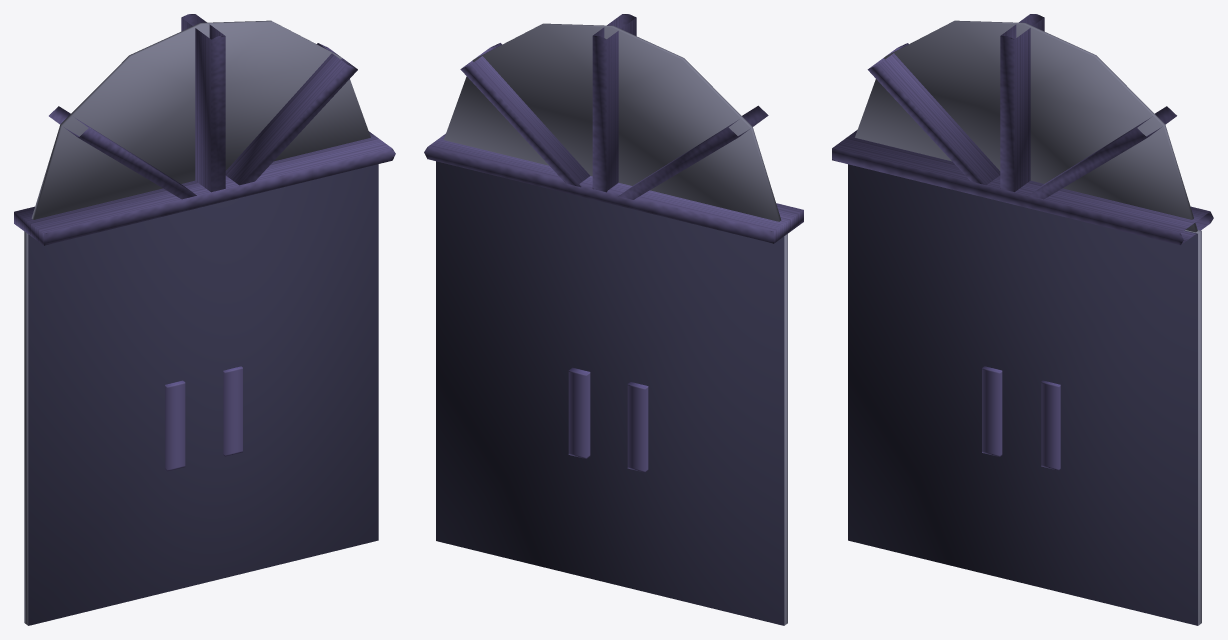
The model's file is door.fbx.
3 views of the same model, side by side, from view 1: azimuth 30°, elevation 25°; view 2: azimuth 150°, elevation 25°; view 3: azimuth 330°, elevation 25° (orthographic).
Visible parts, largest first — view 1: door1; view 2: door1; view 3: door1.
Part boxes in pixels (bbox=[...]): door1: bbox=[14, 14, 395, 625]; door1: bbox=[424, 14, 803, 625]; door1: bbox=[832, 14, 1213, 625].
Size of the model in its own units: 526 by 798 by 79.02.
